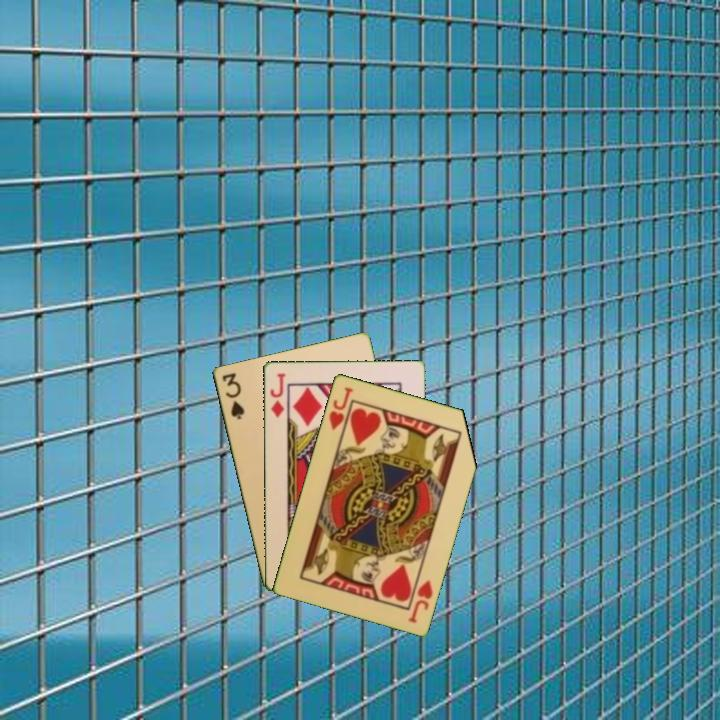3s: (218, 369, 247, 422)
Jd: (266, 369, 288, 420)
Jh: (325, 383, 356, 433), (404, 576, 435, 625)
